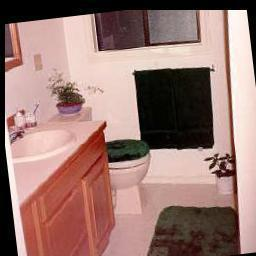Lavamanos: (9, 120, 78, 172)
Sanitario: (69, 103, 159, 223)
